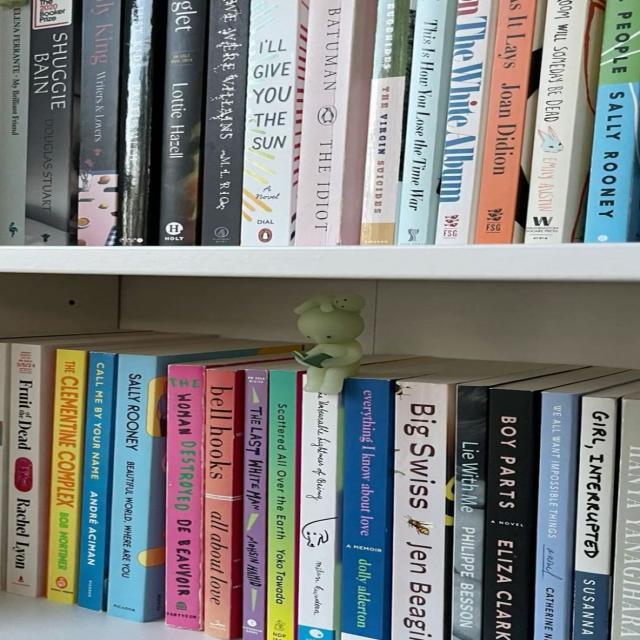book: (106, 352, 239, 622), (294, 0, 376, 246), (524, 0, 597, 244), (390, 381, 455, 639), (241, 0, 307, 246), (472, 0, 536, 244), (395, 0, 457, 245), (435, 0, 496, 244), (481, 389, 539, 639), (340, 379, 395, 639), (583, 0, 639, 243), (25, 0, 78, 245), (359, 0, 410, 245), (6, 343, 54, 597), (533, 392, 581, 639), (201, 0, 249, 245), (159, 0, 206, 245), (571, 397, 618, 639), (297, 376, 339, 639), (164, 364, 205, 630), (203, 370, 243, 639), (45, 349, 87, 604), (77, 0, 120, 245), (77, 352, 117, 611), (265, 370, 301, 639), (450, 386, 487, 639), (117, 0, 153, 245), (242, 370, 270, 639), (0, 5, 30, 245), (610, 394, 639, 639), (0, 343, 10, 589)
figurine: (293, 294, 363, 395)
